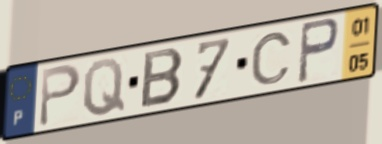7: (193, 34, 233, 102)
B: (138, 46, 187, 111)
C: (249, 30, 294, 87)
P: (295, 15, 342, 86), (37, 61, 84, 130)
Q: (82, 56, 128, 119)
